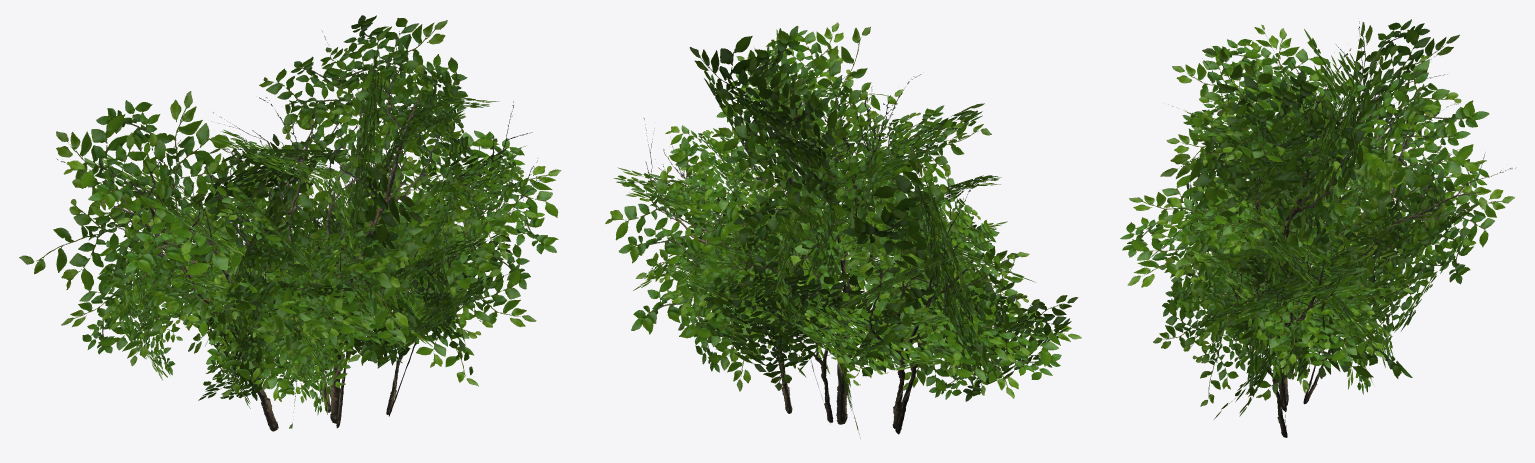
Rendered from BSwap_LPBushes_01.dae.
The picture shows the model from 3 angles, left to right: view 1: azimuth 30°, elevation 25°; view 2: azimuth 150°, elevation 25°; view 3: azimuth 270°, elevation 25°; orthographic projection.
Parts seen in each view (by area): view 1: Bushes_02, Bushes_01; view 2: Bushes_02, Bushes_01; view 3: Bushes_02, Bushes_01.
Boxes of the visible parts, x1=… form: Bushes_02: x1=19, y1=15, x2=561, y2=431; Bushes_01: x1=164, y1=168, x2=536, y2=428; Bushes_02: x1=605, y1=22, x2=1081, y2=438; Bushes_01: x1=647, y1=169, x2=1032, y2=399; Bushes_02: x1=1120, y1=19, x2=1516, y2=437; Bushes_01: x1=1164, y1=157, x2=1426, y2=419.
Bounding box in the file's own units: 5.3 × 3.89 × 4.5.
